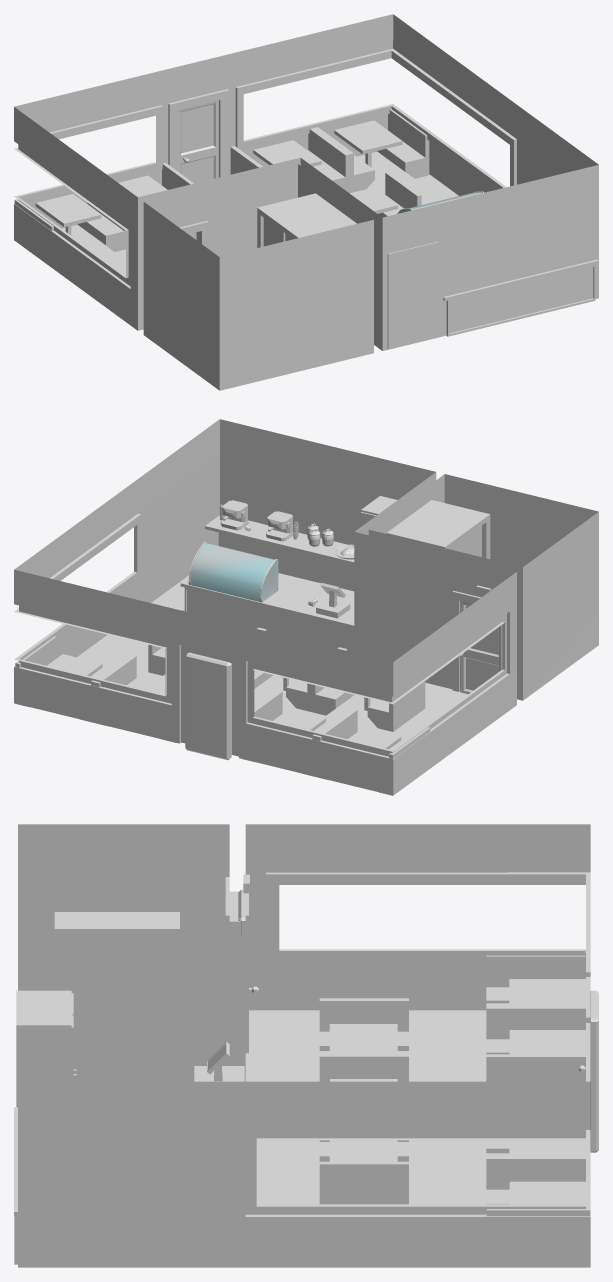
File: piece V2.fbx
3 views of the same model, one above another, from view 1: azimuth 30°, elevation 25°; view 2: azimuth 150°, elevation 25°; view 3: azimuth 270°, elevation 25° (orthographic). The views are drawn at different scales.
Visible parts, largest first — view 1: piece, SIEGE, comptoire, TABLE.007, FRIGO, porte.001, asenseur; view 2: piece, SIEGE, comptoire.001, porte.001, comptoire, VITRE, POSTAIRE, asenseur, TABLE.007, porte.002, CAISSE, machine (+2 smaller); view 3: piece, SIEGE, TABLE.007, FRIGO, asenseur, porte.001, CAISSE, comptoire.
Part boxes in pixels (<box>): piece: <box>14,14,598,390</box>; SIEGE: <box>14,109,429,251</box>; comptoire: <box>443,259,598,336</box>; TABLE.007: <box>35,120,402,235</box>; FRIGO: <box>387,241,439,349</box>; porte.001: <box>178,100,218,183</box>; asenseur: <box>257,193,356,247</box>; piece: <box>14,419,598,795</box>; SIEGE: <box>15,608,430,795</box>; comptoire.001: <box>180,577,354,652</box>; porte.001: <box>185,652,231,760</box>; comptoire: <box>205,515,354,591</box>; VITRE: <box>190,543,277,601</box>; POSTAIRE: <box>378,571,427,652</box>; asenseur: <box>386,500,490,558</box>; TABLE.007: <box>47,654,401,749</box>; porte.002: <box>460,601,502,694</box>; CAISSE: <box>316,582,350,618</box>; machine: <box>220,500,248,530</box>; piece: <box>18,824,590,1267</box>; SIEGE: <box>319,955,590,1216</box>; TABLE.007: <box>329,979,585,1204</box>; FRIGO: <box>16,990,76,1107</box>; asenseur: <box>54,912,179,928</box>; porte.001: <box>590,990,598,1152</box>; CAISSE: <box>200,1041,235,1081</box>; comptoire: <box>14,1107,17,1264</box>.
Bounding box in the file's own units: 3503 × 1204 × 3365.
